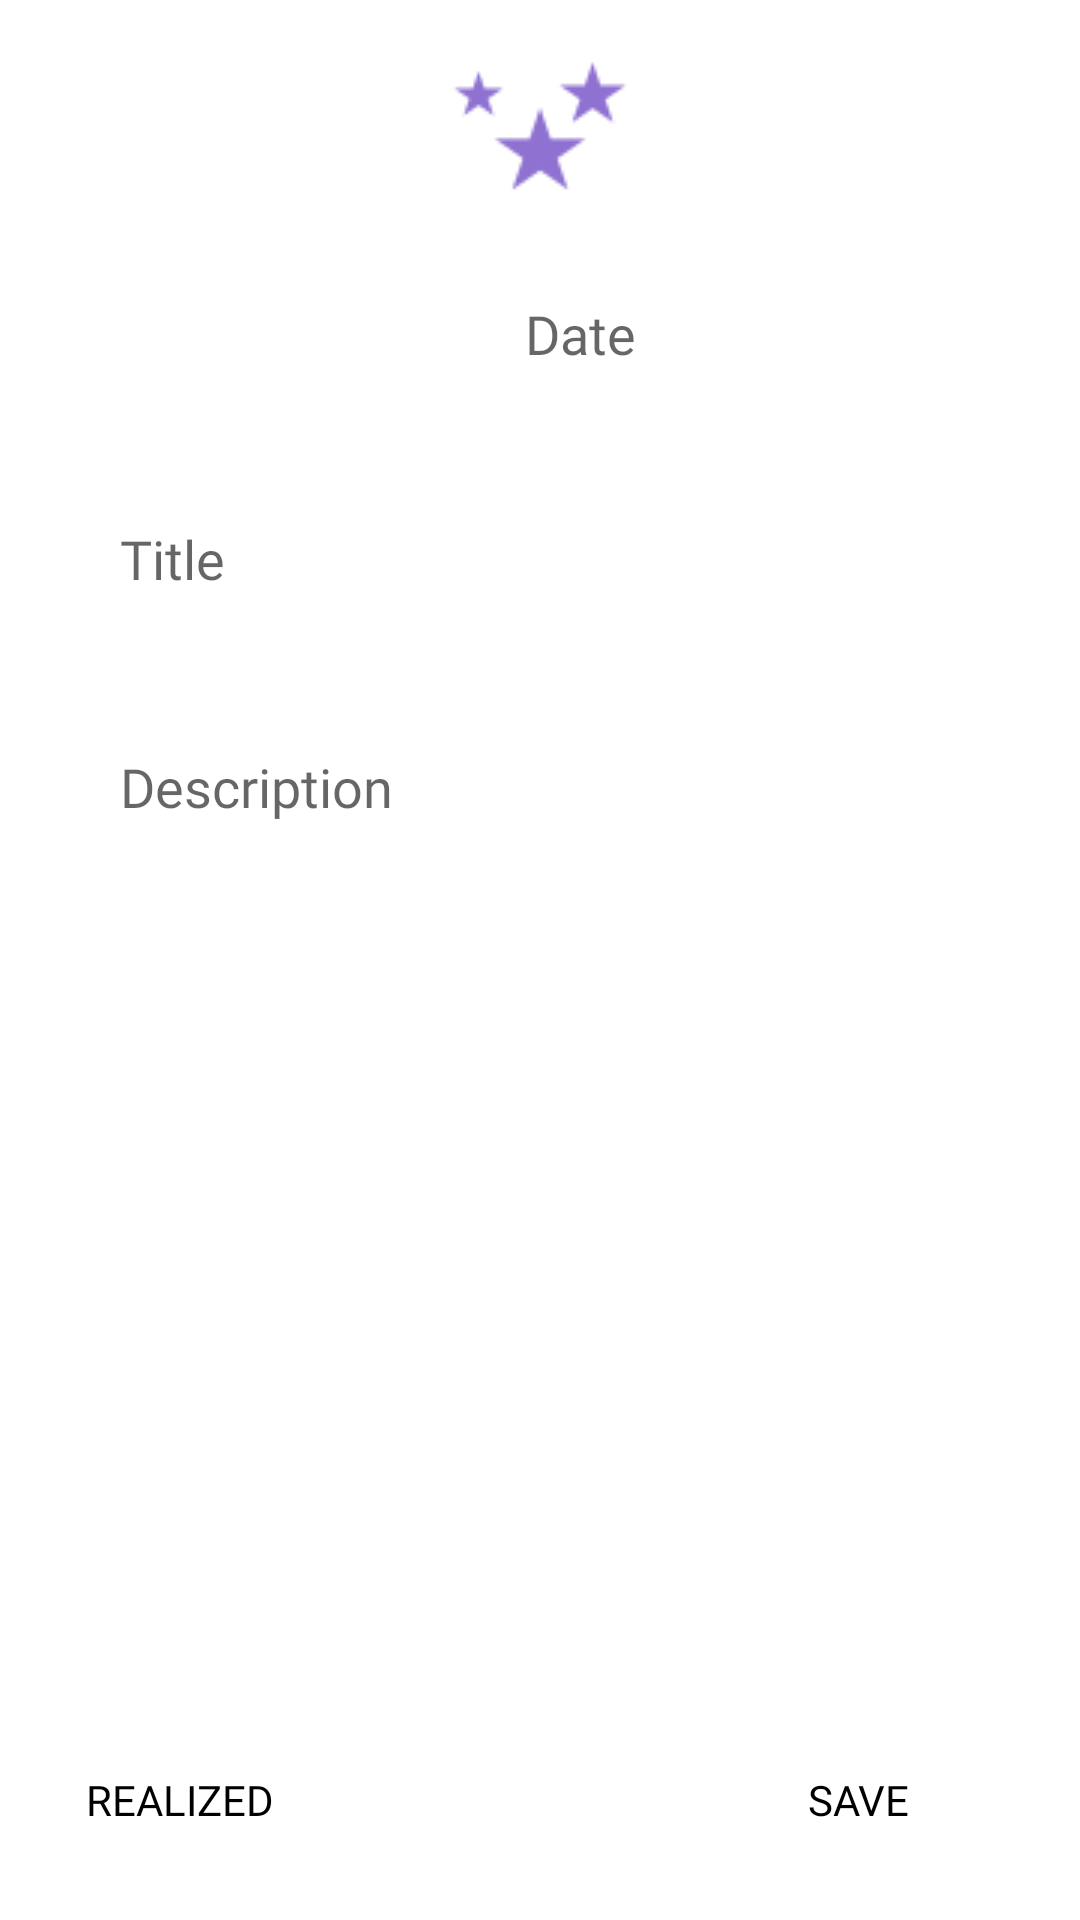

Icons on this 1080x1920 Android screen, each with the point to tap as (x,y):
star: (540,126)
